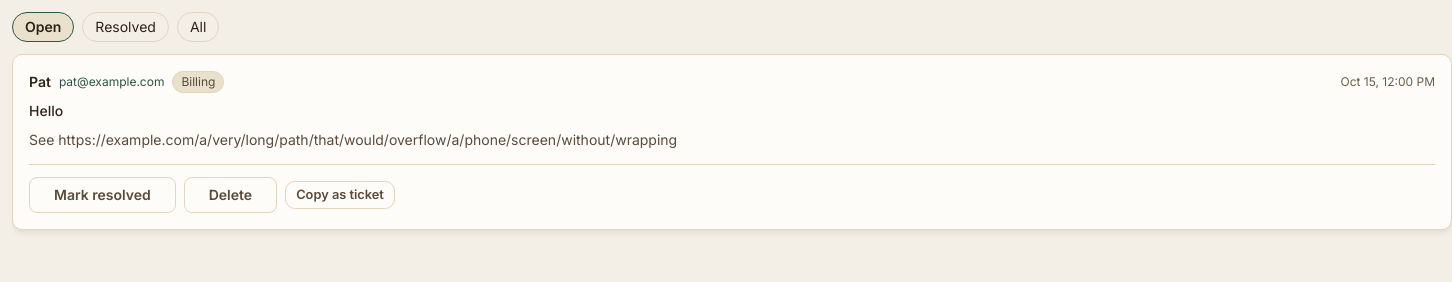
Test: AdminMailbox › says so when a delete fails, and keeps the message
Click the button "Delete" at (230, 195), box [184,177,277,213]
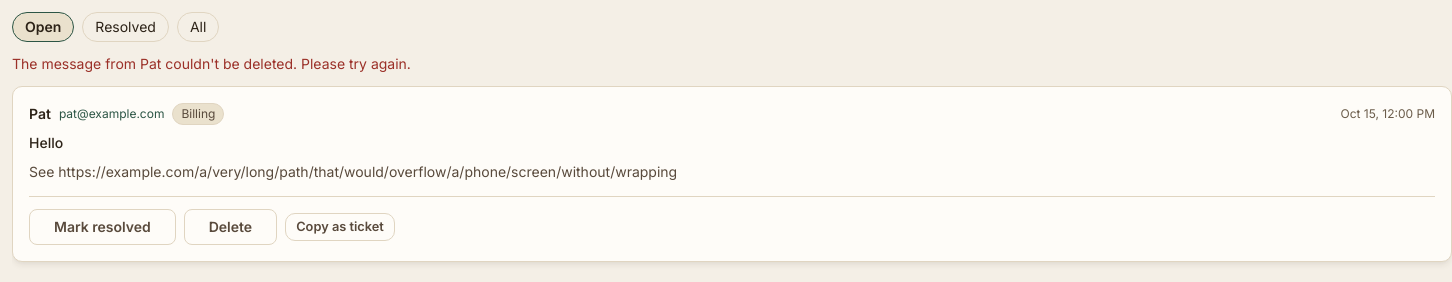
expect the message shows "The message from Pat couldn't be deleted.": met, box [12,55,411,72]
